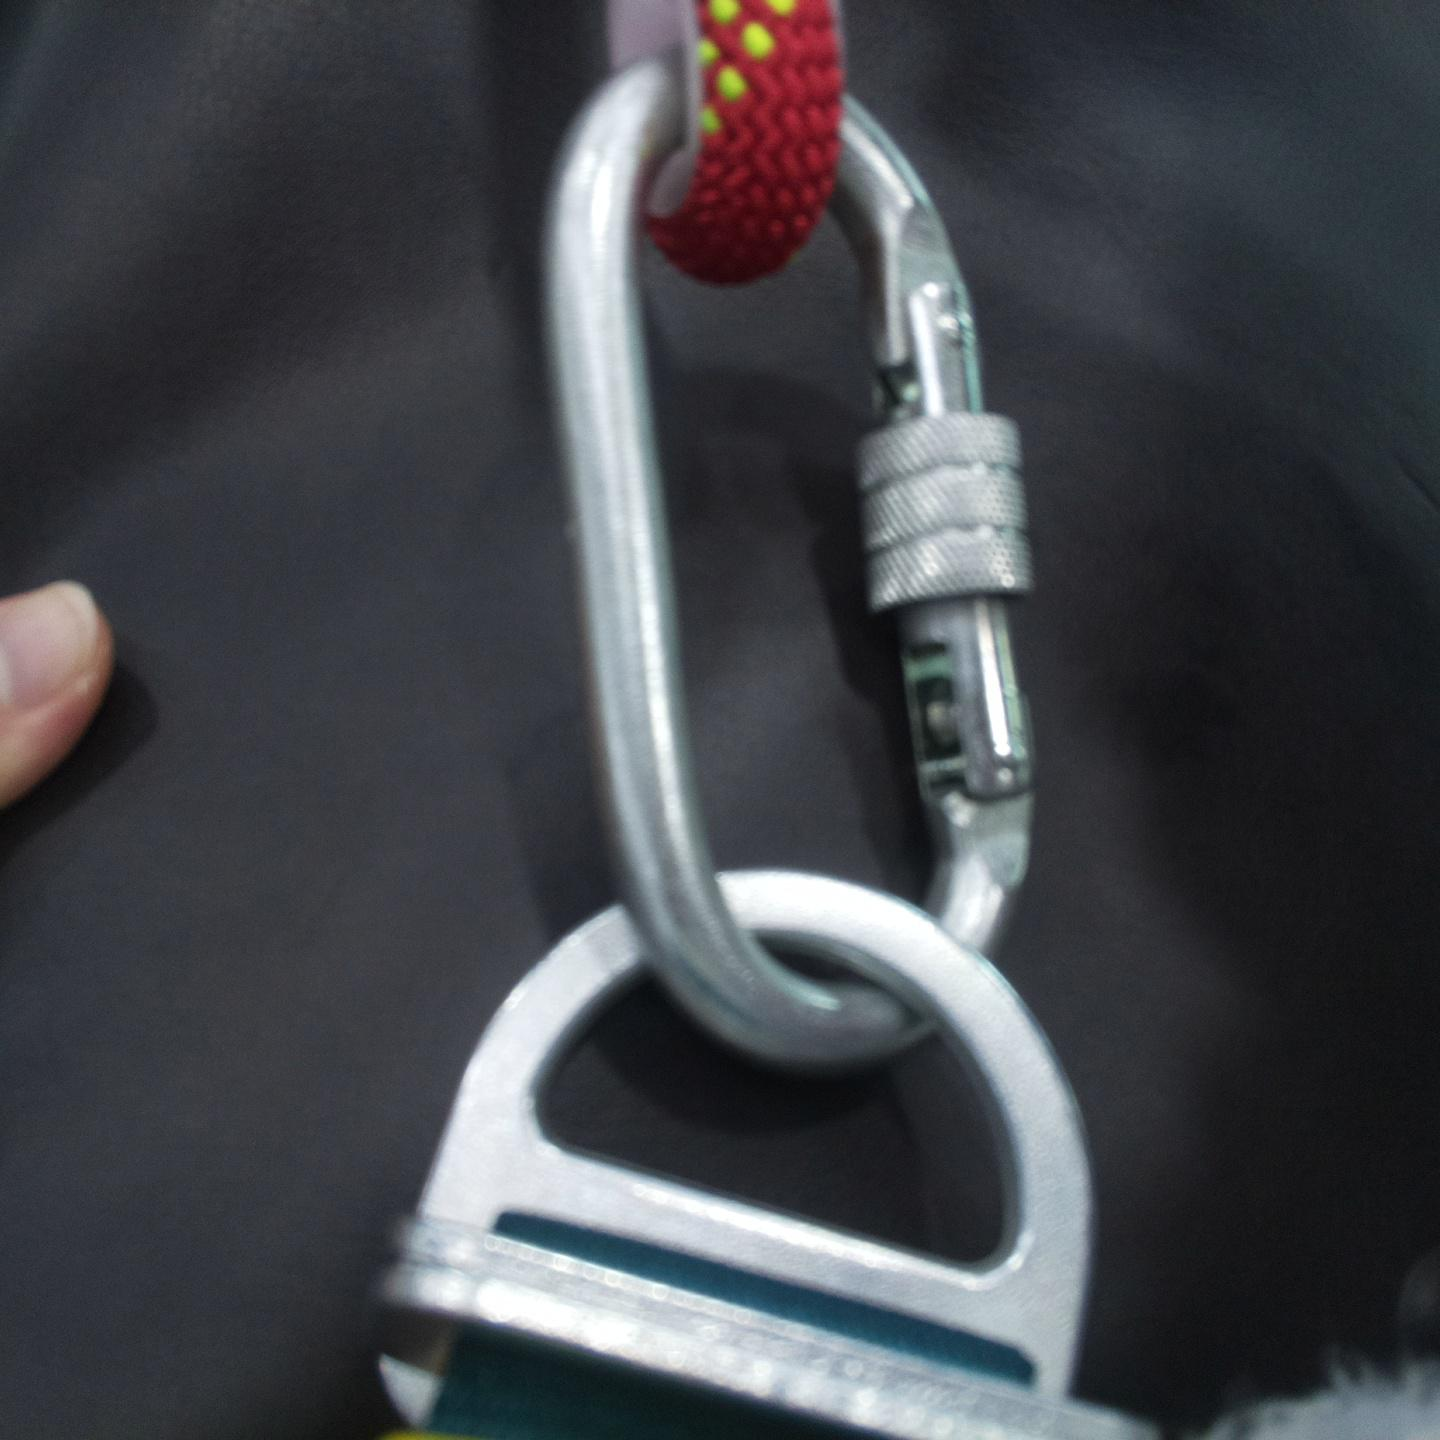SUCCESS: (373, 429, 1109, 1389)
